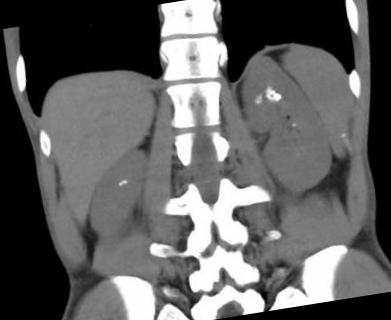Tas_Var: (261, 84, 277, 105), (270, 91, 284, 102), (252, 92, 262, 105), (290, 120, 296, 129), (268, 88, 276, 94), (121, 178, 127, 185), (116, 180, 122, 187)
